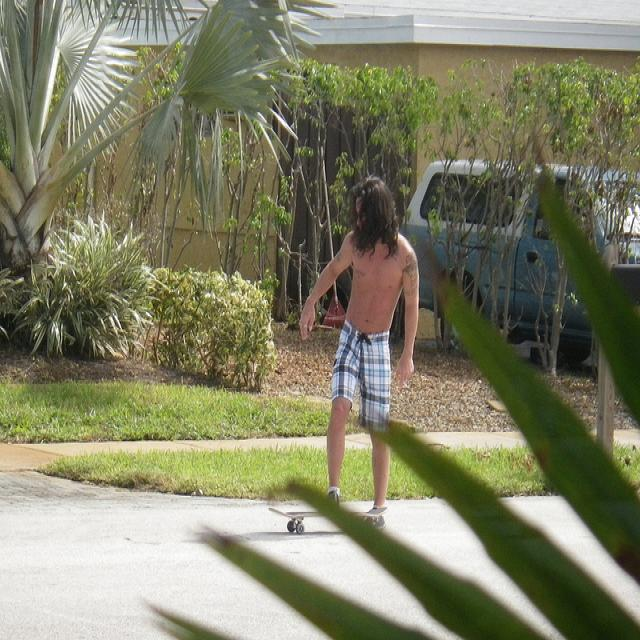Vehicle: (397, 157, 640, 365)
